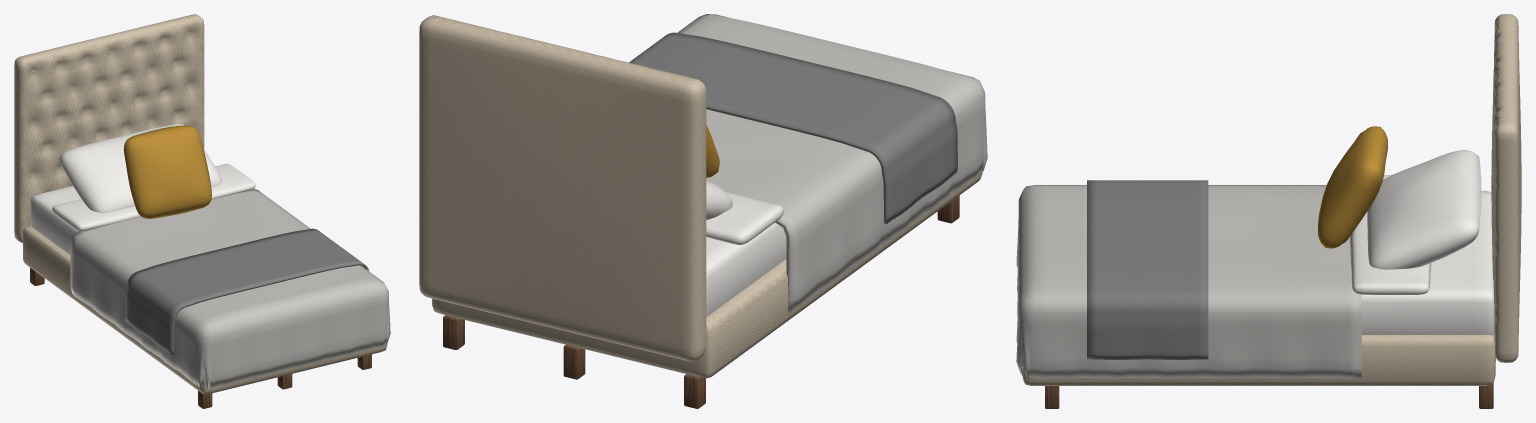
Rendered from cama_capitone_105.glb.
The picture shows the model from 3 angles, left to right: view 1: azimuth 30°, elevation 25°; view 2: azimuth 150°, elevation 25°; view 3: azimuth 270°, elevation 25°; orthographic projection. The views are drawn at different scales.
Parts seen in each view (by area): view 1: cama_capitone_105; view 2: cama_capitone_105; view 3: cama_capitone_105.
Part boxes in pixels (x1,y1,x2,y2): cama_capitone_105: (14, 14, 390, 408); cama_capitone_105: (419, 14, 987, 408); cama_capitone_105: (1016, 14, 1521, 408).
Size of the model in its own units: 1.23 by 1.31 by 2.08.
6 materials, 6 textured.
